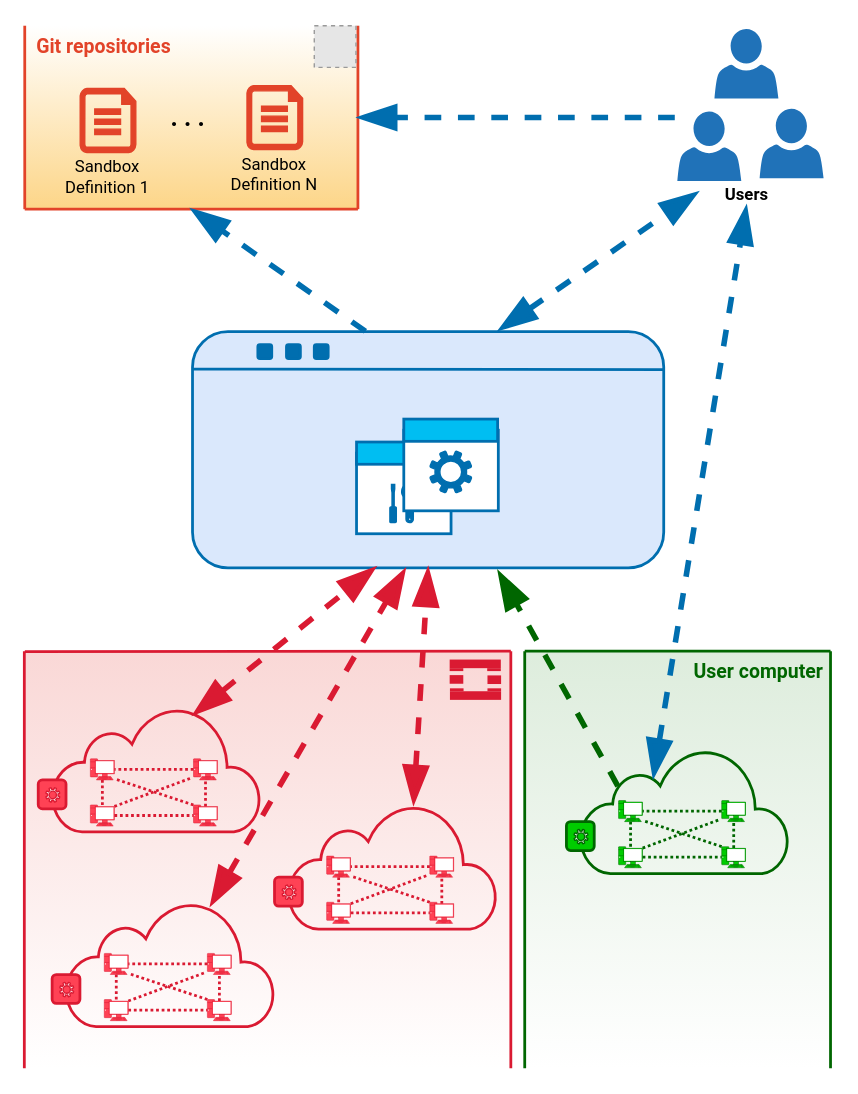
This 858x1094 diagram has some shape labels left out. Grey dashed boxes stand in for pictures. Each missing label, with the box of its shape:
KYPO Portal: (190, 329, 664, 569)
OpenStack cloud: (24, 651, 510, 1068)
